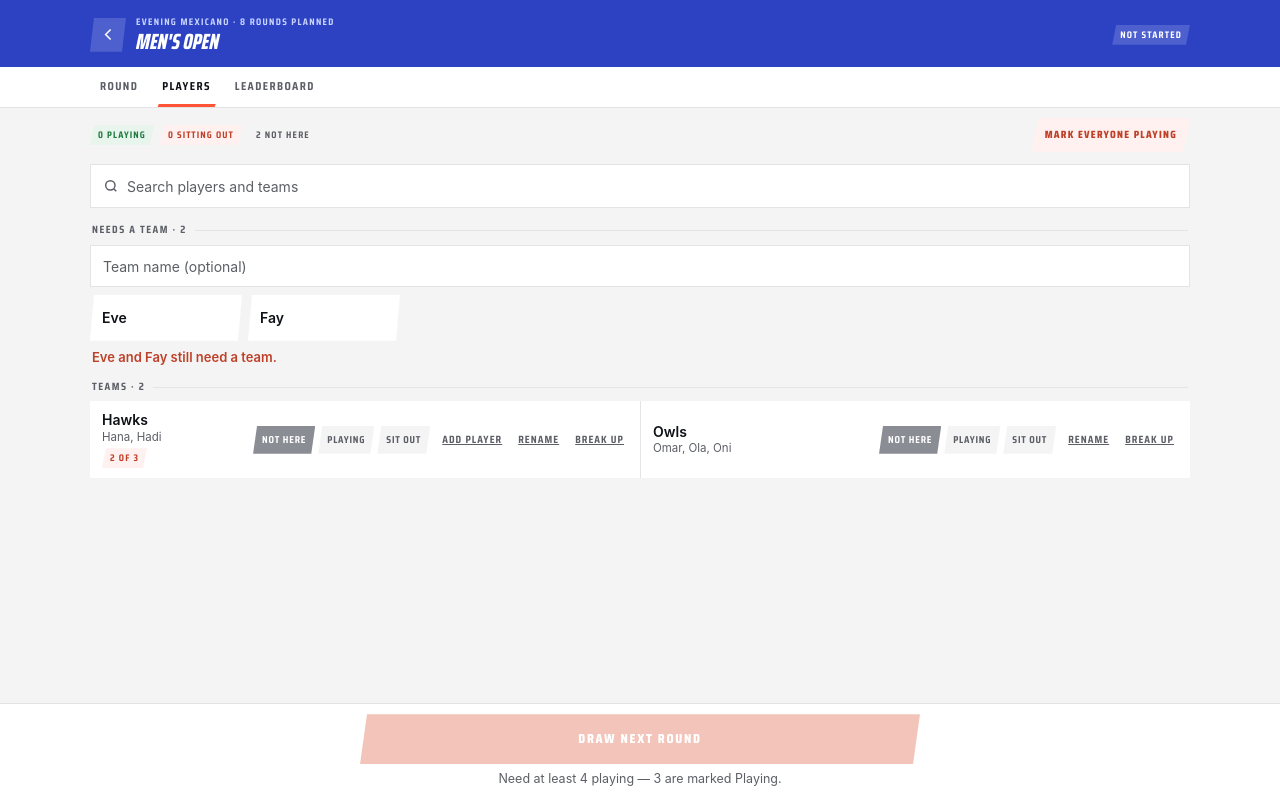
says how many players a short team has and fills it with a tap on a waiting player
This screenshot has width=1280, height=800.
Expected: the text "2 of 3" is shown, [102,448,147,468]
Click the button with aria-label "Add a player to Hawks".
click(472, 440)  # box [438,422,506,458]
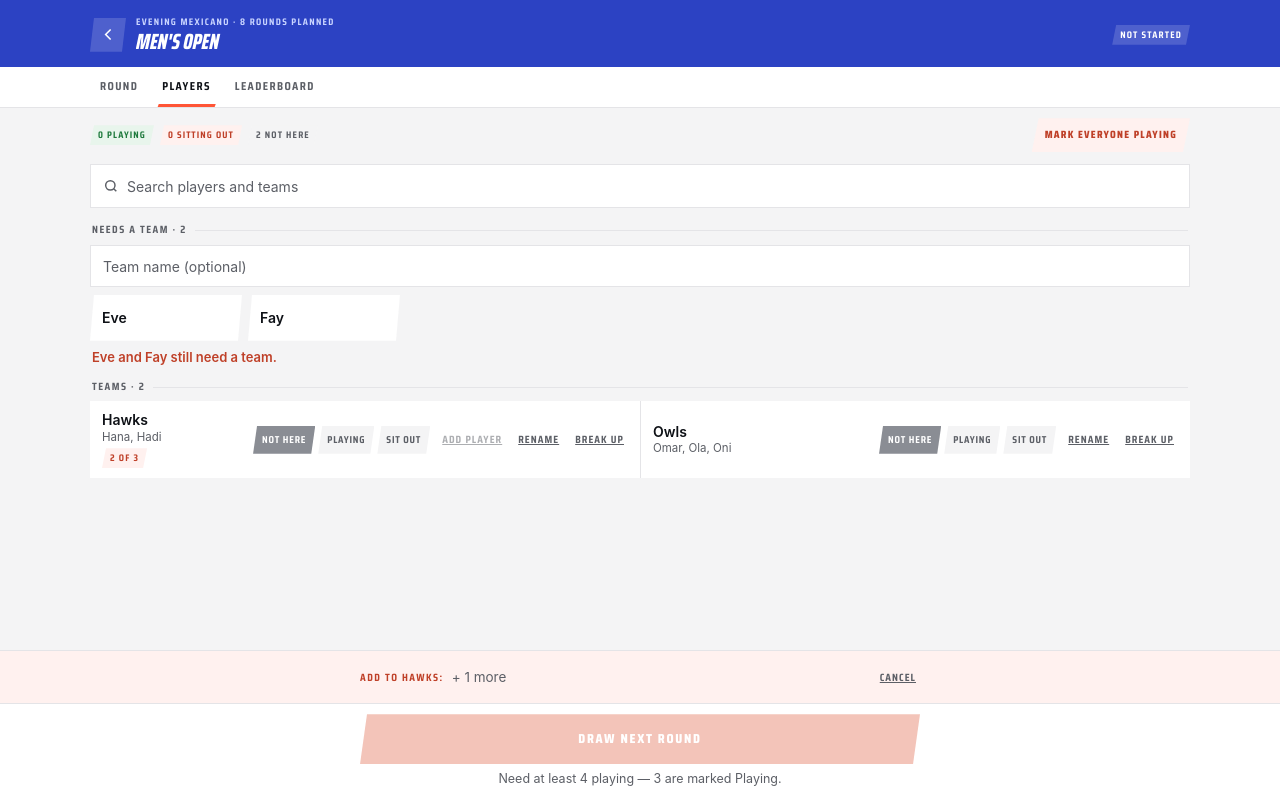
Now the text "+ 1 more" is shown, box [452,669,506,685]
Click the button "Eve".
click(166, 318)  # box [90,295,242,341]
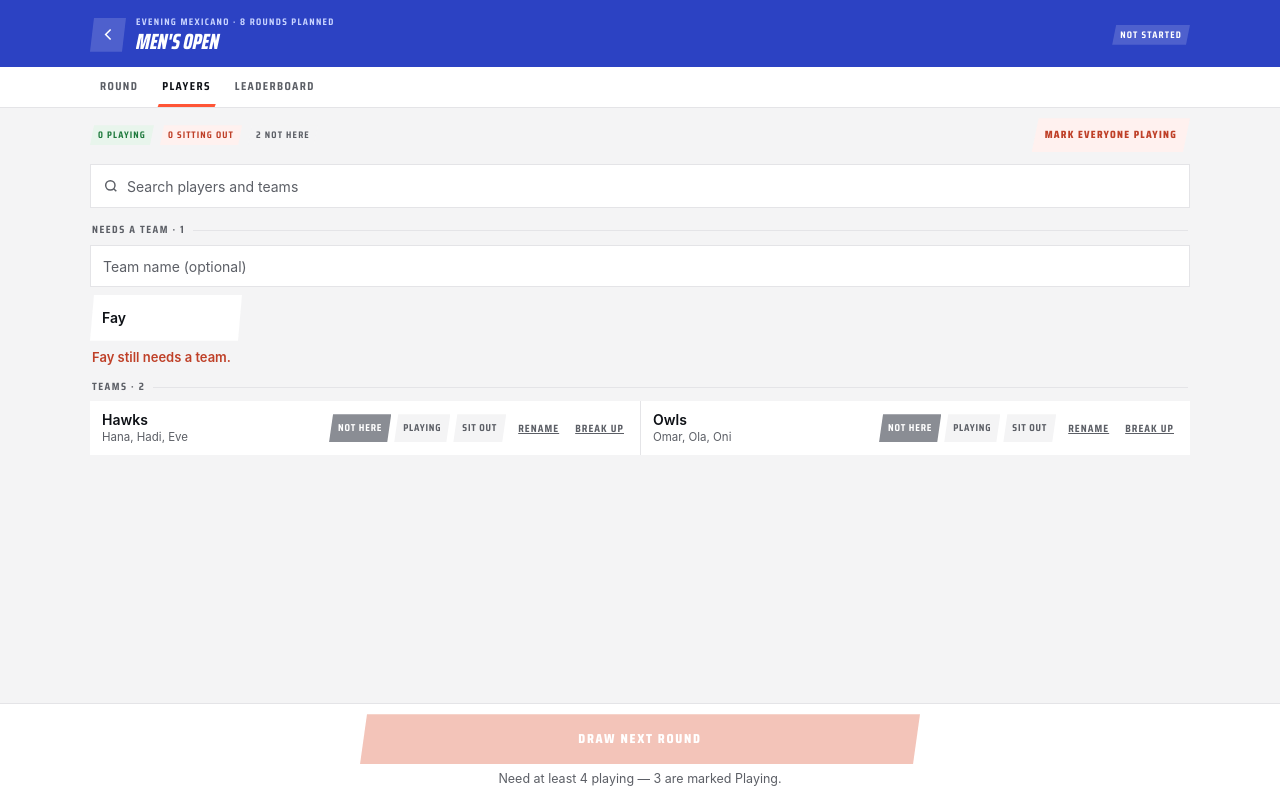
Now the text "Add to Hawks" is gone
Now the text "2 of 3" is gone
